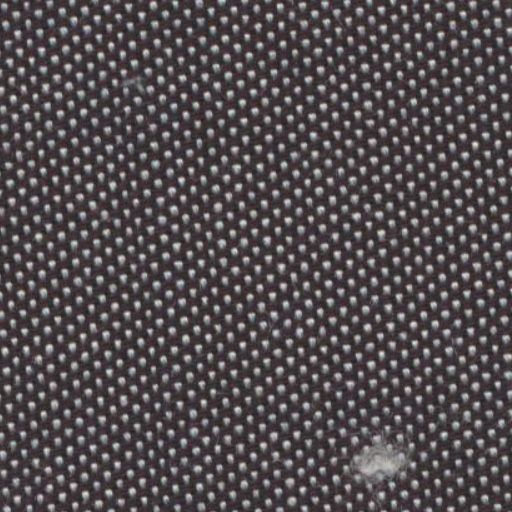PoDong: (321, 397, 442, 498)
